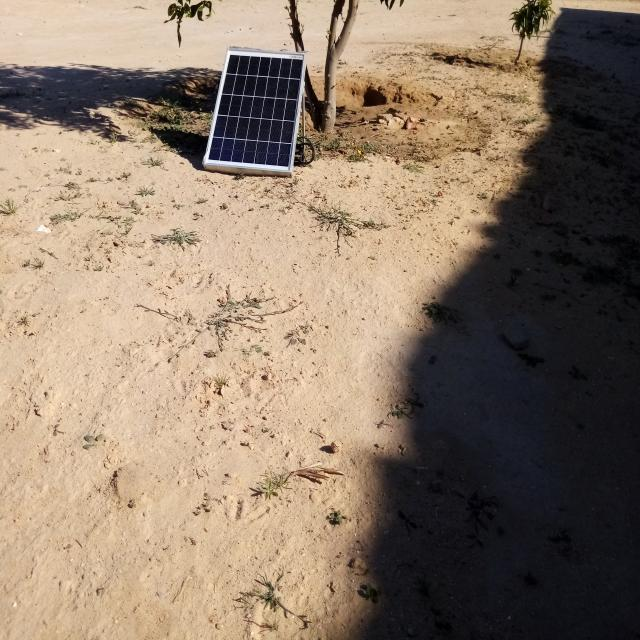no faulty: (204, 47, 306, 173)
